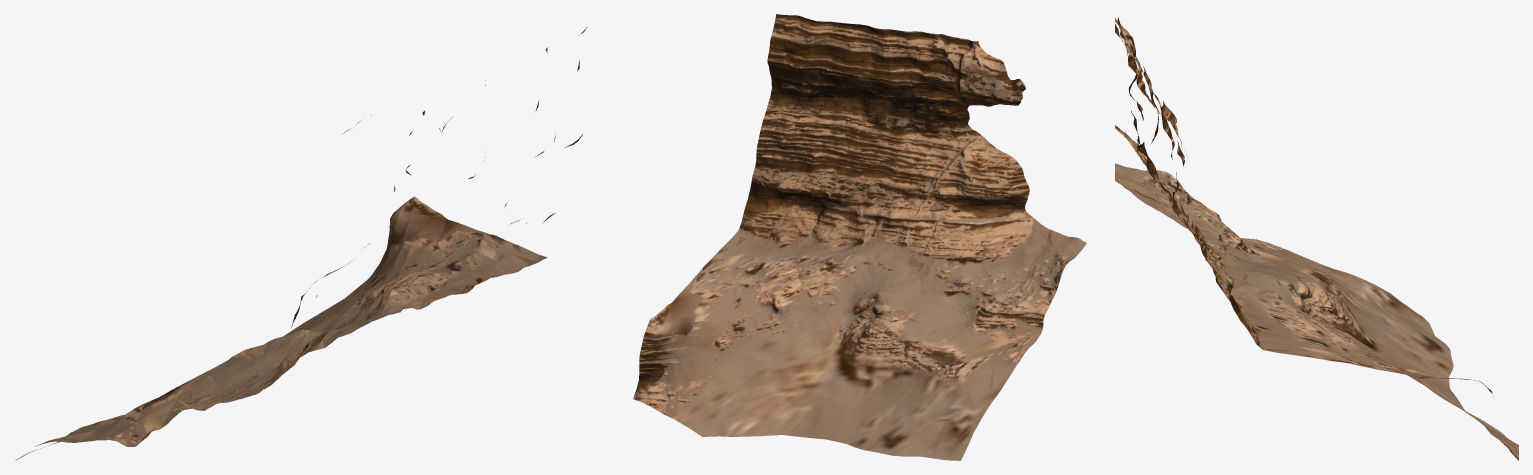
The picture shows the model from 3 angles, left to right: view 1: azimuth 30°, elevation 25°; view 2: azimuth 150°, elevation 25°; view 3: azimuth 270°, elevation 25°; orthographic projection. The views are drawn at different scales.
Bounding box in the file's own units: 1.04 × 1.04 × 1.04.
3 materials, 3 textured.
